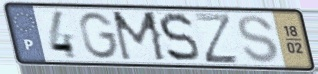4: (45, 8, 82, 60)
G: (77, 11, 121, 61)
M: (109, 10, 170, 64)
S: (157, 11, 202, 64), (236, 13, 281, 65)
Z: (192, 12, 242, 65)
